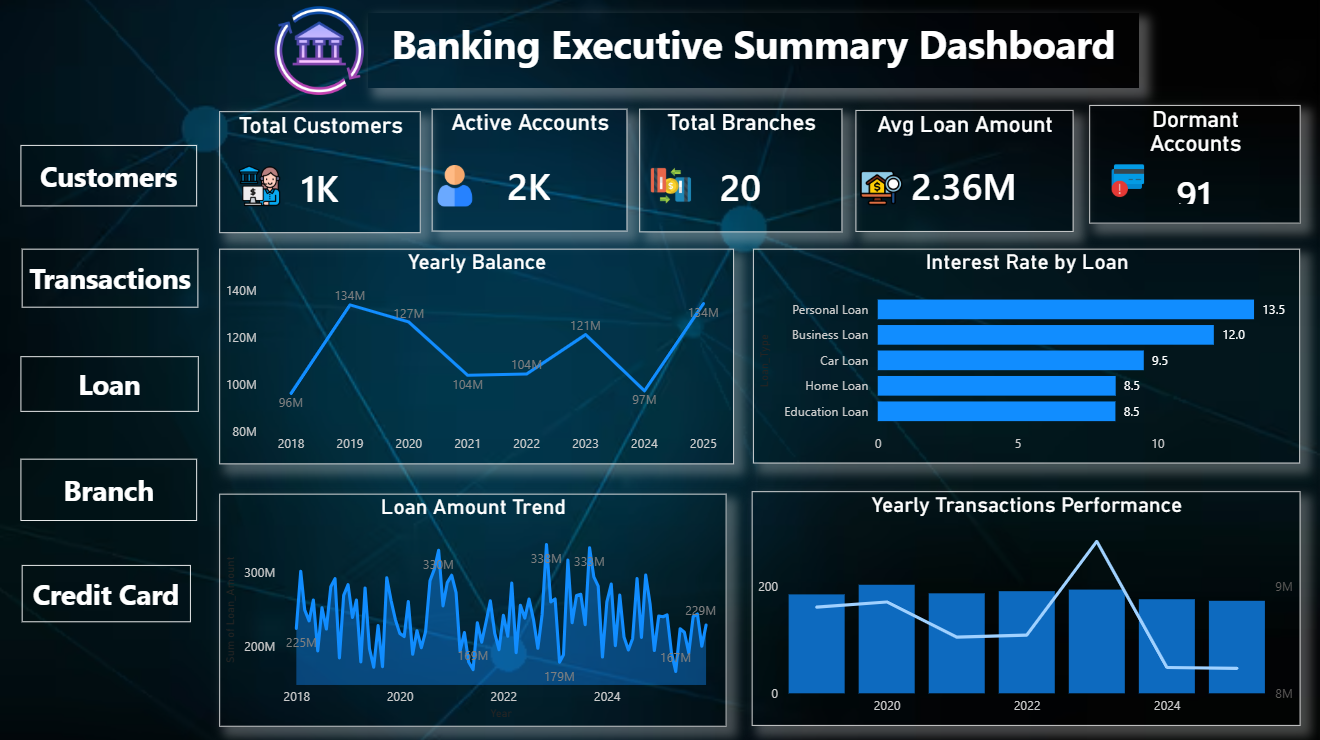

The page's visual inventory and layout, read from the dashboard file:
{"tool":"powerbi","page":{"name":"Executive Summary","canvas":[1280,720],"ordinal":0},"visuals":[{"type":"cardVisual","title":"Total Customers","fields":{"Data":["banking_project account.Total Customers"]},"box":[213.1,112.7,194.6,117.4],"z":0},{"type":"cardVisual","title":"Active Accounts","fields":{"Data":["banking_project account.Measure"]},"box":[418.2,110.3,188.6,118],"z":1000},{"type":"cardVisual","title":"Total Branches","fields":{"Data":["banking_project account.Total Branches"]},"box":[619.3,109.7,196.1,118.9],"z":2000},{"type":"cardVisual","title":"Avg Loan Amount","fields":{"Data":["Avg(banking_project loan.Loan_Amount)"]},"box":[827.8,111.2,210,117.4],"z":3000},{"type":"cardVisual","title":"Dormant Accounts","fields":{"Data":["banking_project account.Dormant Accounts"]},"box":[1053.3,106.6,203.9,114.3],"z":4000},{"type":"lineClusteredColumnComboChart","title":"Yearly Transactions Performance","fields":{"Category":["banking_project transaction.Transaction_Date.Variation.Date Hierarchy.Year"],"Y":["CountNonNull(banking_project transaction.Transaction_ID)"],"Y2":["Sum(banking_project transaction.Amount)"]},"box":[727.3,478.9,529.7,226.4],"z":5000},{"type":"barChart","title":"Interest Rate by Loan ","fields":{"Y":["Avg(banking_project loan.Interest_Rate)"],"Category":["banking_project loan.Loan_Type"]},"box":[729.1,245.1,527.9,207.3],"z":6000},{"type":"lineChart","title":"Yearly Balance","fields":{"Y":["Sum(banking_project account.Balance)"],"Category":["banking_project account.Open_Date.Variation.Date Hierarchy.Year"]},"box":[212.9,245,496.5,207.8],"z":7000},{"type":"areaChart","title":"Loan Amount Trend","fields":{"Category":["banking_project customers.Join_Date.Variation.Date Hierarchy.Year","banking_project customers.Join_Date.Variation.Date Hierarchy.Month"],"Y":["Sum(banking_project loan.Loan_Amount)"]},"box":[213.6,481.8,489.3,224.8],"z":8000},{"type":"textbox","box":[356.6,16.7,744,73.1],"z":9000},{"type":"image","box":[232.2,164.2,41.1,39.8],"z":10000},{"type":"image","box":[221.9,10.3,175.7,85.9],"z":11000},{"type":"actionButton","title":"Transactions","box":[23.1,245,170.6,56.4],"z":12000},{"type":"actionButton","title":"Customers","box":[21.8,145,170.6,59],"z":13000},{"type":"actionButton","title":"Loan","box":[21.8,348.9,171.9,53.9],"z":14000},{"type":"actionButton","title":"Credit Card","box":[23.1,550.3,162.9,55.2],"z":15000},{"type":"actionButton","title":"Branch","box":[21.8,447.7,170.6,60.3],"z":16000},{"type":"image","box":[628.6,164.2,41.1,39.8],"z":17000},{"type":"image","box":[827.8,163.7,51,44.8],"z":18000},{"type":"image","box":[1072.9,156.1,36.1,47.8],"z":19000},{"type":"image","box":[418.6,164.4,44.9,39.8],"z":20000}]}

Visuals, with their boxes in screenshot pixels (x1, y1, x2, y2), scaled from the page's 1280x720 canvas onto the 1320x740 screenshot:
"Total Customers" cardVisual: <box>220,116,420,236</box>
"Active Accounts" cardVisual: <box>431,113,626,235</box>
"Total Branches" cardVisual: <box>639,113,841,235</box>
"Avg Loan Amount" cardVisual: <box>854,114,1070,235</box>
"Dormant Accounts" cardVisual: <box>1086,110,1296,227</box>
"Yearly Transactions Performance" lineClusteredColumnComboChart: <box>750,492,1296,725</box>
"Interest Rate by Loan " barChart: <box>752,252,1296,465</box>
"Yearly Balance" lineChart: <box>220,252,732,465</box>
"Loan Amount Trend" areaChart: <box>220,495,725,726</box>
textbox: <box>368,17,1135,92</box>
image: <box>239,169,282,210</box>
image: <box>229,11,410,99</box>
"Transactions" actionButton: <box>24,252,200,310</box>
"Customers" actionButton: <box>22,149,198,210</box>
"Loan" actionButton: <box>22,359,200,414</box>
"Credit Card" actionButton: <box>24,566,192,622</box>
"Branch" actionButton: <box>22,460,198,522</box>
image: <box>648,169,691,210</box>
image: <box>854,168,906,214</box>
image: <box>1106,160,1144,210</box>
image: <box>432,169,478,210</box>
